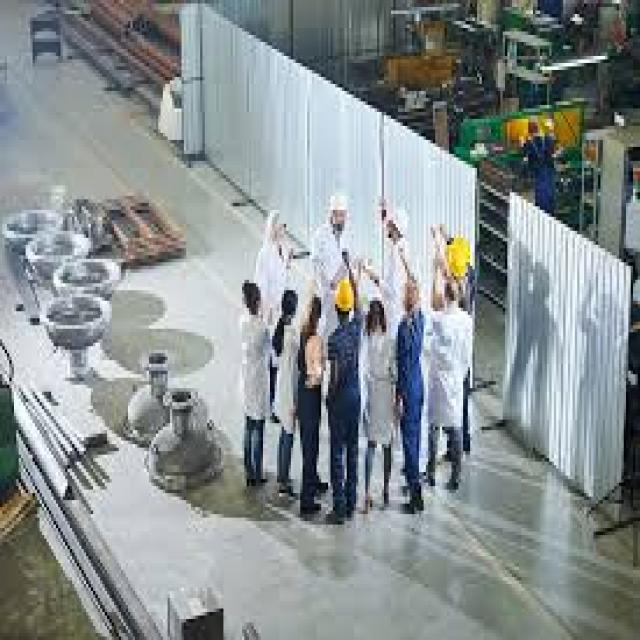Safety-Helmet: (444, 234, 472, 280), (333, 276, 356, 318)
